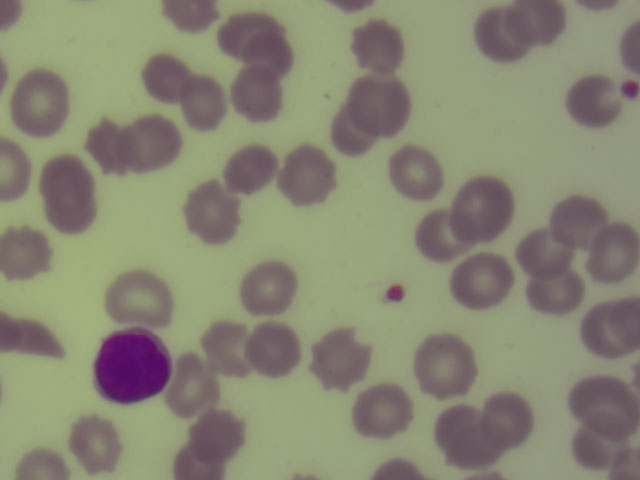Platelets: (384, 280, 408, 310), (619, 77, 640, 102)
RBC: (569, 373, 640, 426), (40, 158, 93, 225), (312, 330, 370, 386), (416, 337, 474, 393), (582, 299, 640, 355), (240, 260, 298, 316), (453, 253, 511, 309), (413, 207, 471, 263), (457, 182, 515, 238), (386, 146, 444, 202), (562, 72, 620, 128), (350, 76, 408, 132), (346, 16, 404, 72), (473, 8, 531, 64), (277, 146, 335, 202), (221, 142, 279, 198), (67, 416, 125, 472), (108, 271, 166, 327), (182, 183, 240, 239), (175, 74, 233, 130), (121, 115, 179, 171), (12, 72, 70, 128), (569, 415, 627, 471), (481, 391, 539, 447), (434, 409, 492, 465), (353, 383, 411, 439), (246, 322, 304, 378), (1, 226, 58, 282), (586, 224, 640, 283), (214, 13, 287, 56), (167, 348, 213, 415), (229, 70, 284, 124), (549, 194, 602, 248), (525, 264, 581, 315), (200, 319, 246, 381), (332, 101, 378, 162), (190, 408, 244, 459), (506, 1, 564, 45), (1, 317, 67, 355), (143, 51, 189, 104), (517, 228, 572, 272), (239, 33, 294, 75), (86, 116, 125, 175), (173, 440, 227, 480), (161, 1, 220, 36), (10, 448, 69, 480), (1, 137, 30, 201)
WBC: (94, 324, 173, 408)
